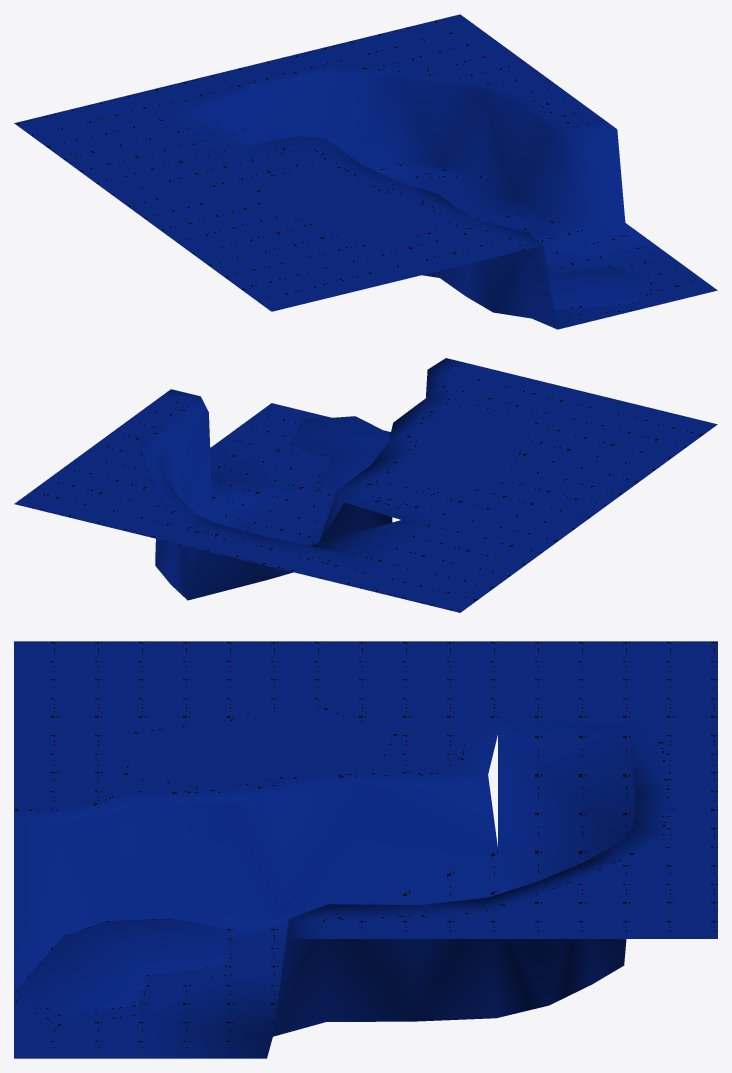
Rendered from GRD_S_C4_S_2.fbx.
The picture shows the model from 3 angles, top to bottom: view 1: azimuth 30°, elevation 25°; view 2: azimuth 150°, elevation 25°; view 3: azimuth 270°, elevation 25°; orthographic projection. The views are drawn at different scales.
Visible parts, largest first — view 1: material_00022000, material_00042000, material_C0032000, material_C0012000, material_C0052000; view 2: material_00022000, material_00042000, material_C0032000, material_C0012000, material_C0052000; view 3: material_00022000, material_00042000, material_C0032000, material_C0012000, material_C0052000.
Boxes of the visible parts, left/top/right/bottom form: material_00022000: left=14, top=14, right=717, bottom=329; material_00042000: left=174, top=66, right=625, bottom=329; material_C0032000: left=257, top=166, right=515, bottom=246; material_C0012000: left=547, top=266, right=652, bottom=309; material_C0052000: left=554, top=288, right=652, bottom=316; material_00022000: left=14, top=363, right=717, bottom=612; material_00042000: left=139, top=358, right=466, bottom=600; material_C0032000: left=225, top=404, right=537, bottom=532; material_C0012000: left=290, top=416, right=390, bottom=488; material_C0052000: left=290, top=445, right=338, bottom=494; material_00022000: left=14, top=641, right=717, bottom=1058; material_00042000: left=14, top=734, right=671, bottom=1056; material_C0032000: left=124, top=707, right=396, bottom=791; material_C0012000: left=14, top=918, right=230, bottom=1015; material_C0052000: left=14, top=940, right=230, bottom=1025.
Size of the model in its own units: 12800 by 2400 by 12800.
